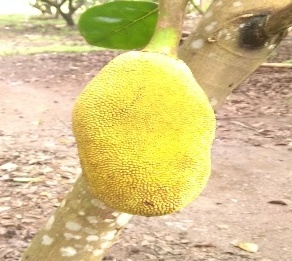Mit: (72, 52, 216, 217)
